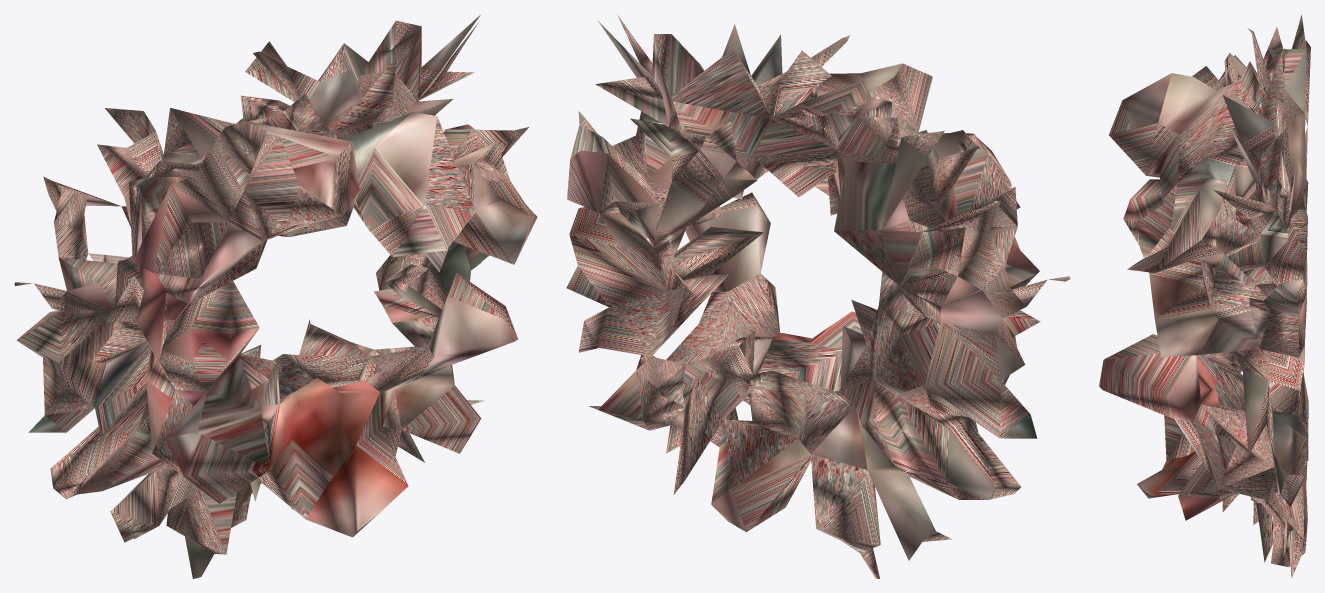
3 views of the same model, side by side, from view 1: azimuth 30°, elevation 25°; view 2: azimuth 150°, elevation 25°; view 3: azimuth 270°, elevation 25° (orthographic). The views are drawn at different scales.
Parts seen in each view (by area): view 1: Rose-Frame-10-06; view 2: Rose-Frame-10-06; view 3: Rose-Frame-10-06.
Part boxes in pixels (x1,y1,x2,y2): Rose-Frame-10-06: (14, 15, 537, 578); Rose-Frame-10-06: (566, 14, 1070, 578); Rose-Frame-10-06: (1099, 15, 1310, 578).
Bounding box in the file's own units: 0.3074 × 0.3064 × 0.1141.
1 material, 1 textured.
